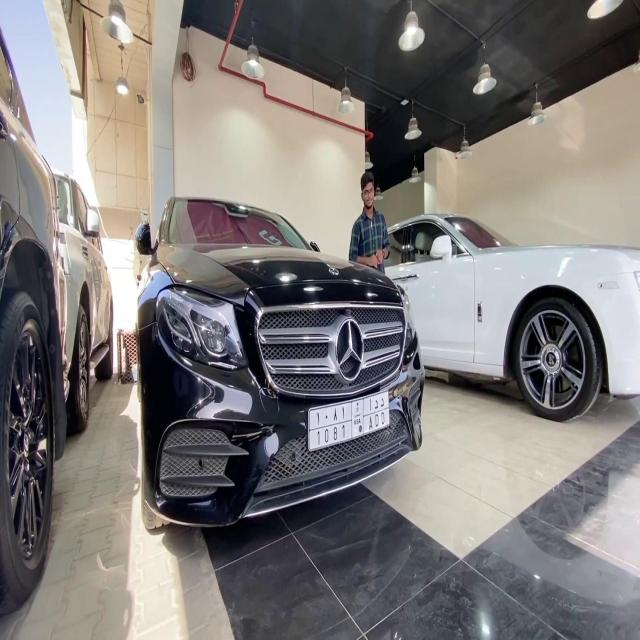license_plate: (302, 377, 397, 462)
